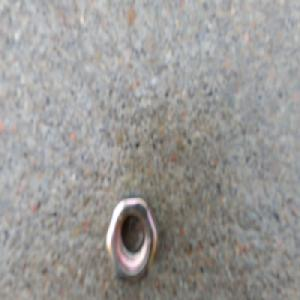Nut: (104, 190, 159, 281)
